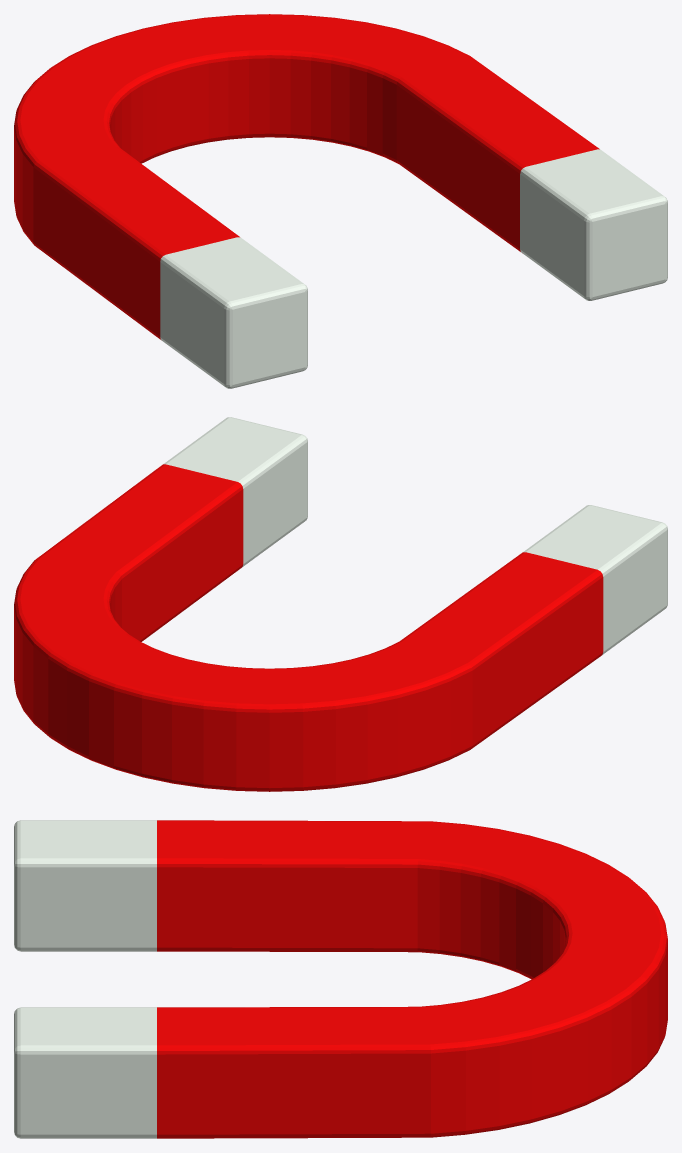
The model's file is Magnet.fbx.
3 views of the same model, one above another, from view 1: azimuth 30°, elevation 25°; view 2: azimuth 150°, elevation 25°; view 3: azimuth 270°, elevation 25° (orthographic). The views are drawn at different scales.
Visible parts, largest first — view 1: magnet, metal; view 2: magnet, metal; view 3: magnet, metal.
Boxes of the visible parts, x1,y1,x2,y2 form: magnet: (14, 14, 599, 339); metal: (160, 149, 667, 388); magnet: (14, 464, 603, 791); metal: (163, 417, 667, 654); magnet: (157, 820, 667, 1138); metal: (14, 820, 156, 1138).
Bounding box in the file's own units: 400 × 75 × 480.
